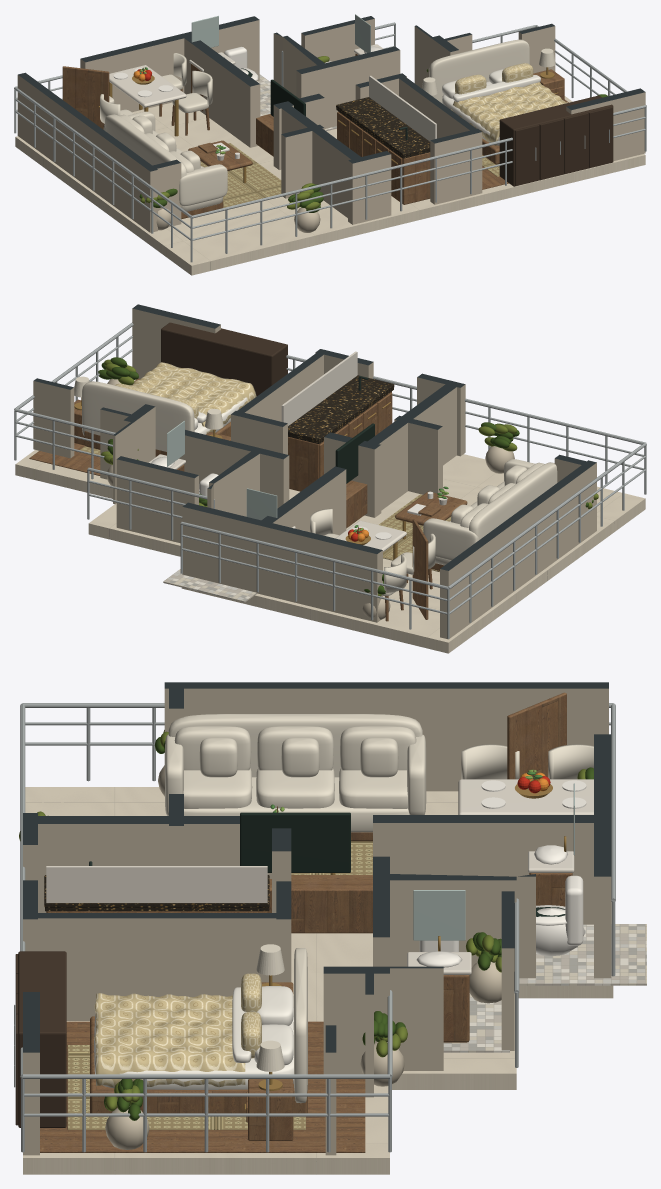
3 views of the same model, one above another, from view 1: azimuth 30°, elevation 25°; view 2: azimuth 150°, elevation 25°; view 3: azimuth 270°, elevation 25° (orthographic). The views are drawn at different scales.
Parts seen in each view (by area): view 1: Source-traced internal and perimeter walls • Wall, Continuous apartment foundation, Soft jacquard duvet with folds, Padded headboard, Deep green kitchen stone, Fitted dark wardrobe, Oak entrance door, Living patterned carpet, Sofa back, Rounded armrest, Backsplash, Dining top (+24 smaller); view 2: Source-traced internal and perimeter walls • Wall, Continuous apartment foundation, Fitted dark wardrobe, Soft jacquard duvet with folds, Padded headboard, Deep green kitchen stone, Sofa back, Backsplash, Base cabinets, Rounded armrest.001, Oak entrance door, Bathroom mosaic floor (+20 smaller); view 3: Source-traced internal and perimeter walls • Wall, Continuous apartment foundation, Soft jacquard duvet with folds, Full bedroom wood flooring, Backsplash, Fitted dark wardrobe, Television, Walnut media console, Bathroom mosaic floor, Sofa back, Oak entrance door, Dining top (+44 smaller).
Part boxes in pixels (x1=…): Source-traced internal and perimeter walls • Wall: x1=17, y1=16, x2=645, y2=232; Continuous apartment foundation: x1=15, y1=96, x2=645, y2=275; Soft jacquard duvet with folds: x1=451, y1=82, x2=567, y2=145; Padded headboard: x1=429, y1=39, x2=529, y2=103; Deep green kitchen stone: x1=336, y1=97, x2=430, y2=156; Fitted dark wardrobe: x1=499, y1=95, x2=613, y2=186; Oak entrance door: x1=62, y1=66, x2=109, y2=129; Living patterned carpet: x1=200, y1=143, x2=281, y2=207; Sofa back: x1=105, y1=114, x2=186, y2=177; Rounded armrest: x1=179, y1=164, x2=227, y2=206; Backsplash: x1=369, y1=75, x2=436, y2=141; Dining top: x1=109, y1=65, x2=186, y2=107; Source-traced internal and perimeter walls • Wall: x1=33, y1=304, x2=596, y2=639; Continuous apartment foundation: x1=15, y1=379, x2=645, y2=653; Fitted dark wardrobe: x1=161, y1=322, x2=287, y2=396; Soft jacquard duvet with folds: x1=131, y1=362, x2=256, y2=433; Padded headboard: x1=82, y1=381, x2=194, y2=451; Deep green kitchen stone: x1=288, y1=375, x2=394, y2=441; Sofa back: x1=469, y1=462, x2=557, y2=539; Backsplash: x1=281, y1=351, x2=357, y2=425; Base cabinets: x1=288, y1=391, x2=391, y2=491; Rounded armrest.001: x1=423, y1=518, x2=478, y2=560; Oak entrance door: x1=412, y1=519, x2=428, y2=619; Bathroom mosaic floor: x1=163, y1=569, x2=256, y2=602; Source-traced internal and perimeter walls • Wall: x1=23, y1=682, x2=611, y2=1155; Continuous apartment foundation: x1=23, y1=787, x2=613, y2=1174; Soft jacquard duvet with folds: x1=94, y1=993, x2=245, y2=1087; Full bedroom wood flooring: x1=40, y1=1021, x2=365, y2=1152; Backsplash: x1=46, y1=866, x2=267, y2=902; Fitted dark wardrobe: x1=18, y1=951, x2=66, y2=1127; Television: x1=240, y1=812, x2=350, y2=872; Walnut media console: x1=267, y1=875, x2=372, y2=933; Bathroom mosaic floor: x1=519, y1=924, x2=646, y2=985; Sofa back: x1=168, y1=714, x2=422, y2=777; Oak entrance door: x1=507, y1=692, x2=566, y2=779; Dining top: x1=458, y1=779, x2=593, y2=814.
Size of the model in its own units: 8.8 by 1.7 by 6.27.
Materials: 25 (6 with a texture image).
